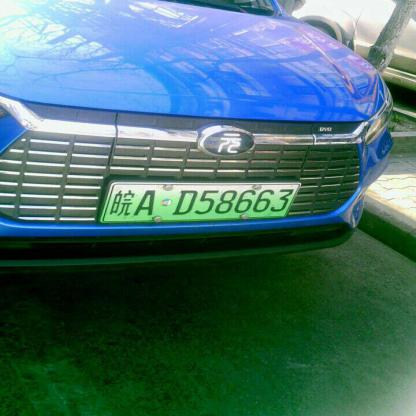lp: (103, 184, 300, 221)
